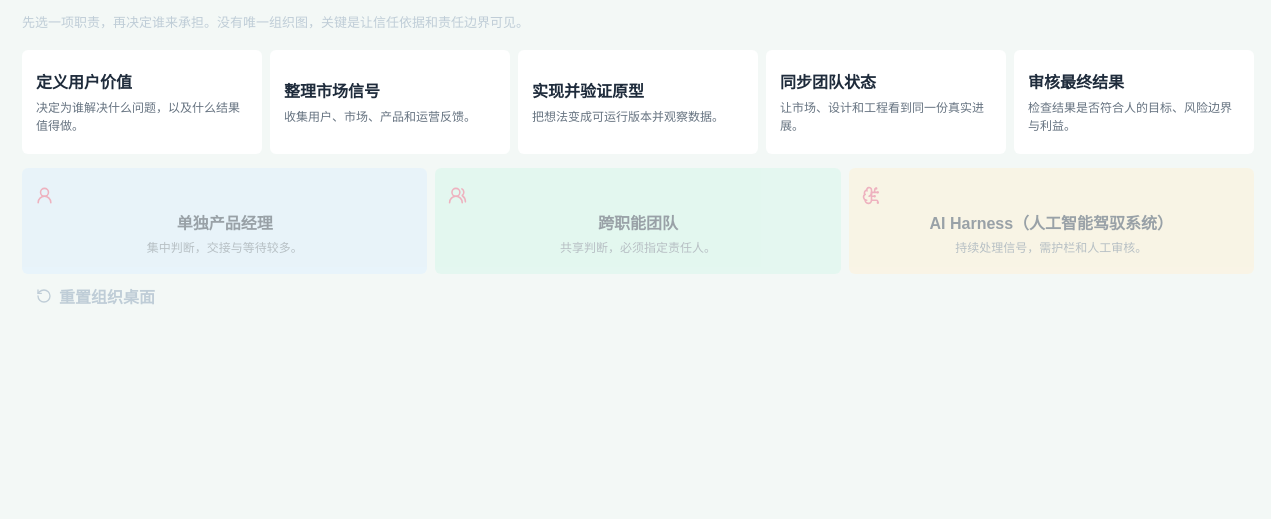
Test: OrgWorkbench › explains the trust and alignment result of distributing a responsibility
The image size is (1271, 519).
Click the button with aria-label "选择定义用户价值" at (142, 102), box [22,50,262,154]
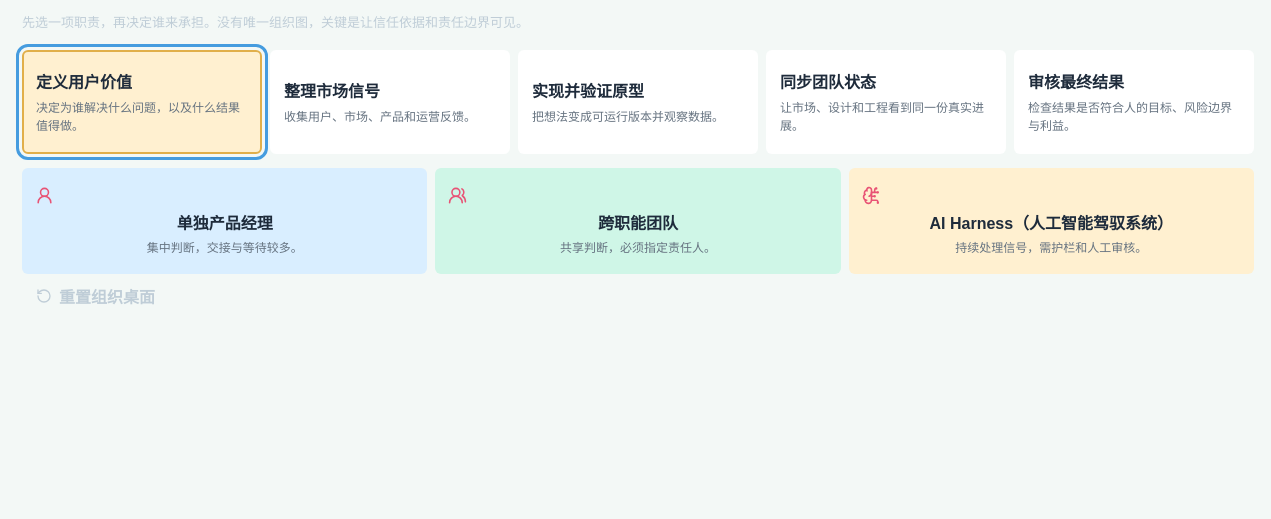
Click the button with aria-label "分配给跨职能团队" at (638, 221), box [435,168,841,274]
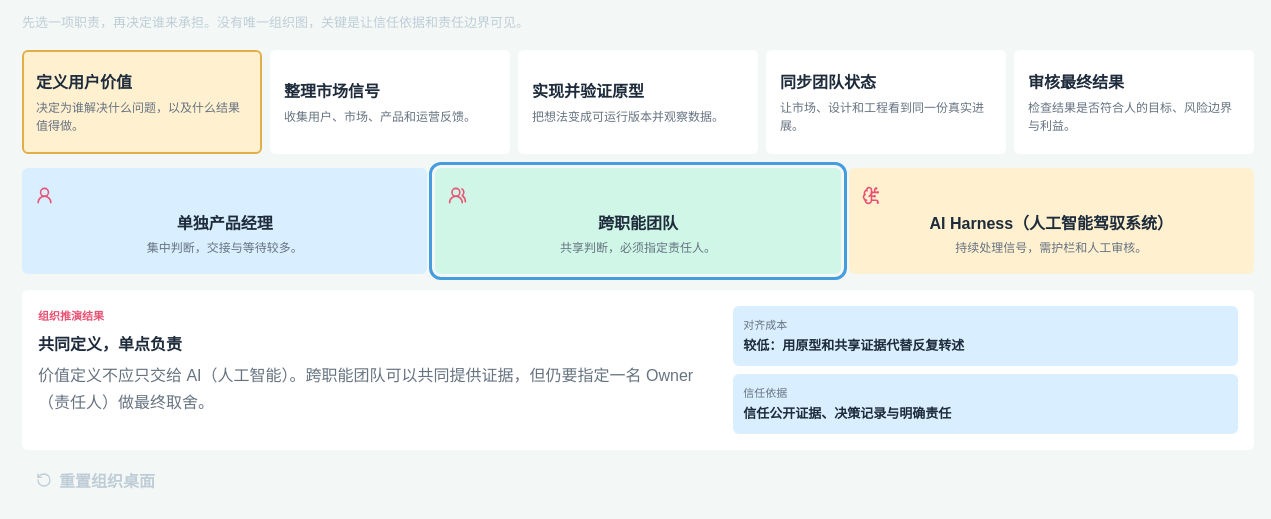
expect the button "重置组织桌面" is shown: met, box [22,458,169,502]
expect the text "价值定义不应只交给 AI（人工智能）。跨职能团队可以共同提供证据，但仍要指定一名 Owner（责任人）做最终取舍。" is shown: met, box [38,362,719,416]
expect the text "对齐成本" is shown: met, box [743,319,787,331]
